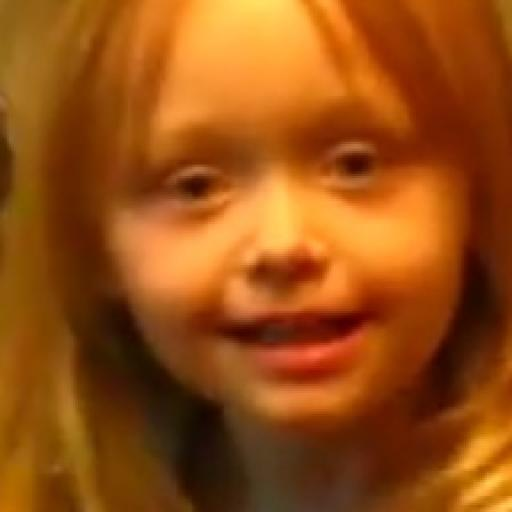Autism: (44, 0, 512, 455)
